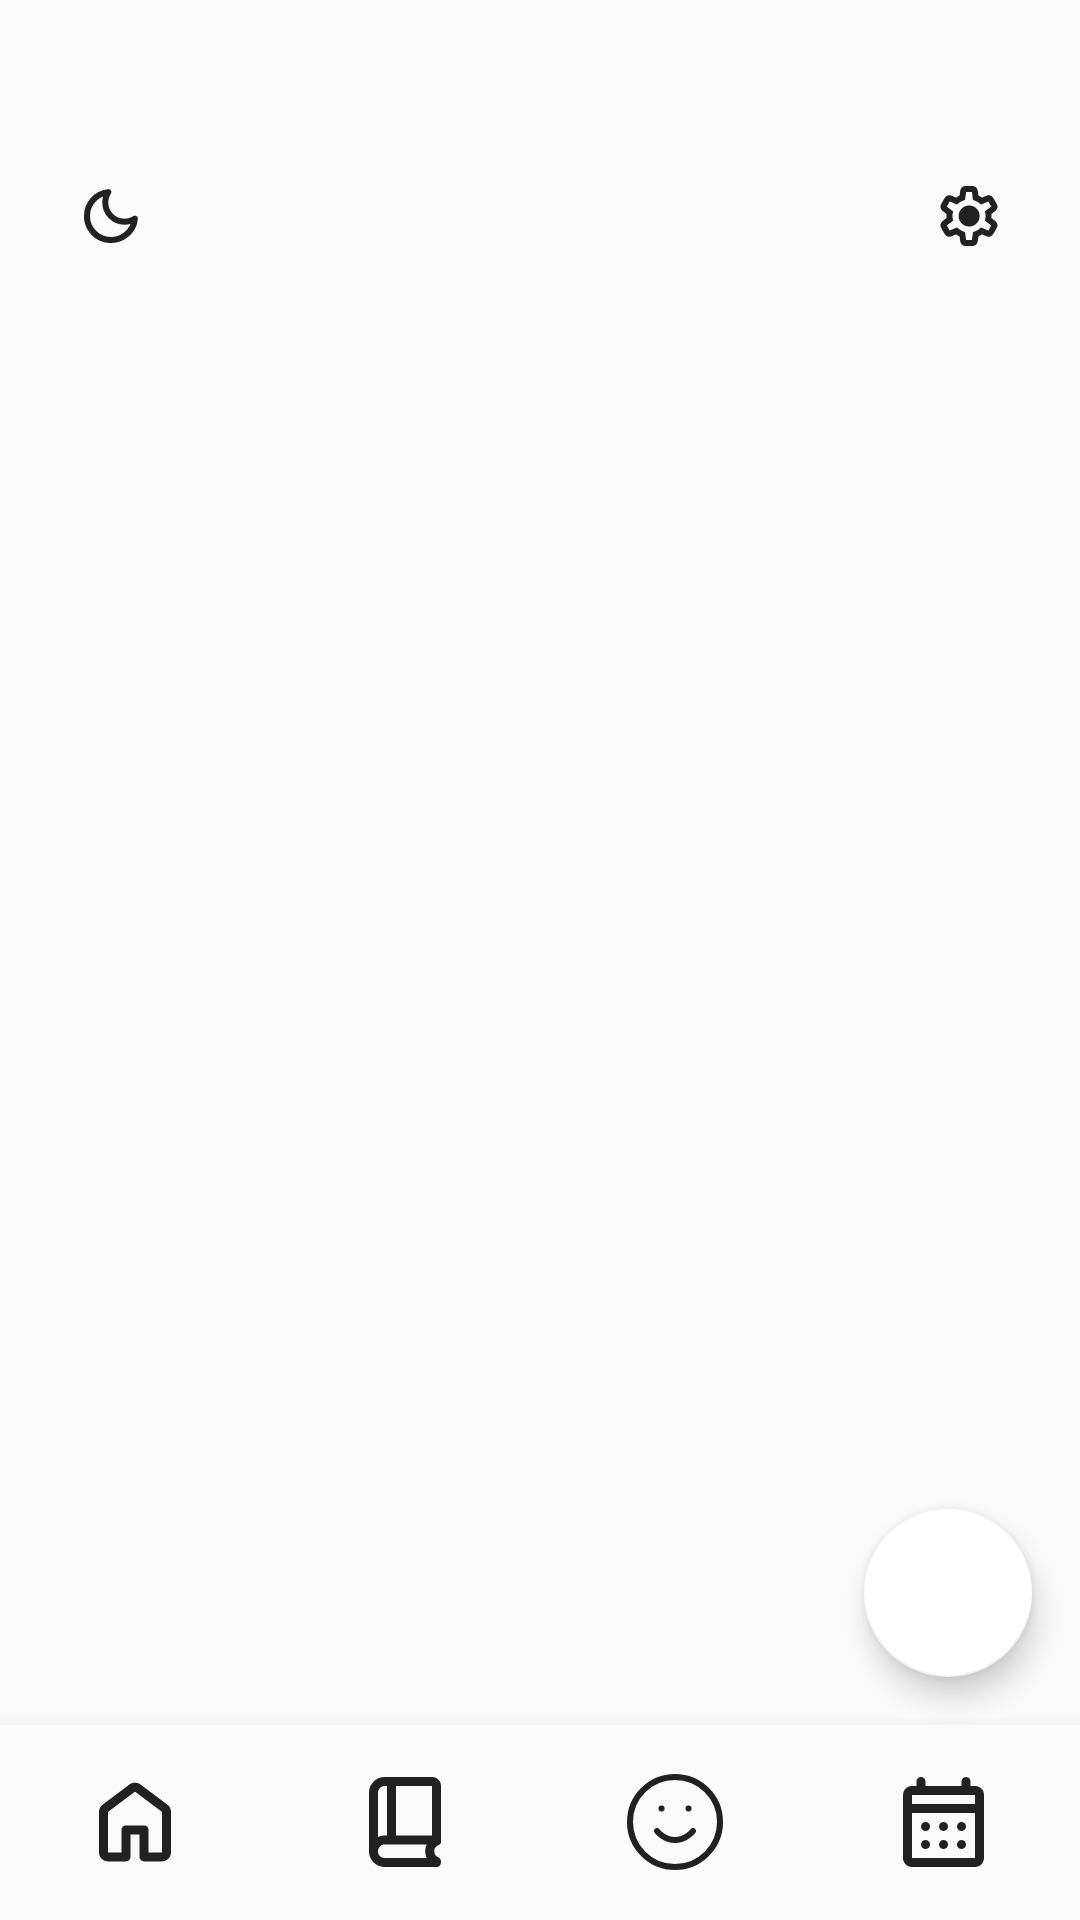

Point at icon controls on the screen. Image size 1080w x 1920h, points as [x,y].
darkmode: [111,216]
setting: [969,216]
